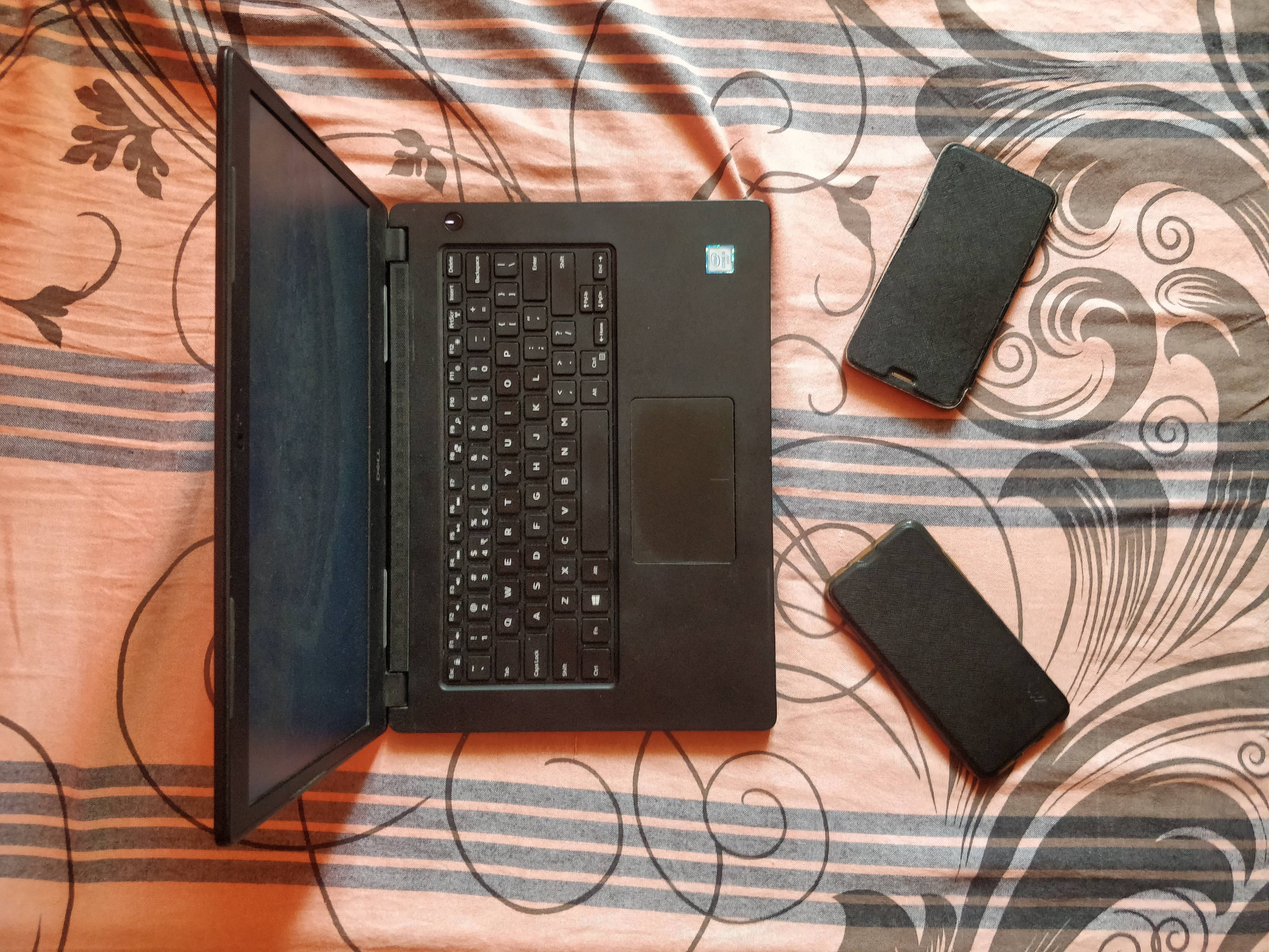Electronics: (123, 29, 806, 863), (809, 509, 1077, 805), (832, 119, 1084, 426)
